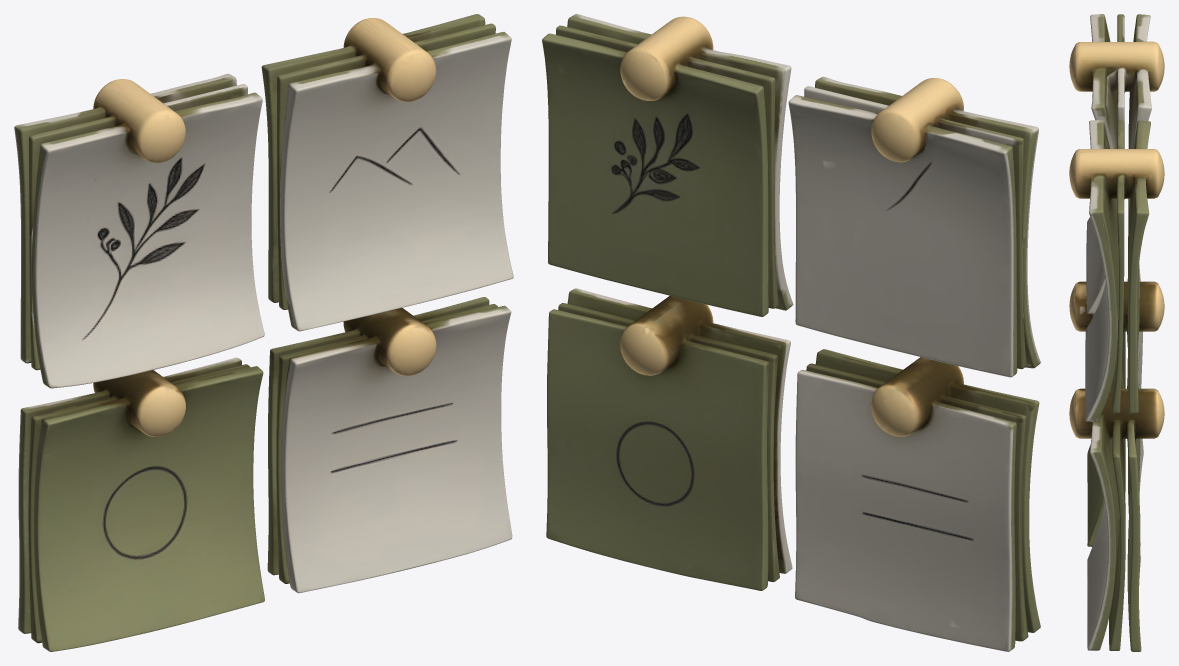
Rendered from notes.glb.
The picture shows the model from 3 angles, left to right: view 1: azimuth 30°, elevation 25°; view 2: azimuth 150°, elevation 25°; view 3: azimuth 270°, elevation 25°; orthographic projection. The views are drawn at different scales.
Parts seen in each view (by area): view 1: node_0; view 2: node_0; view 3: node_0.
Part boxes in pixels (<box>): node_0: <box>14,14,513,651</box>; node_0: <box>542,14,1040,651</box>; node_0: <box>1069,14,1164,651</box>.
Size of the model in its own units: 0.824 by 0.8922 by 0.1672.
Materials: 1 (1 with a texture image).
